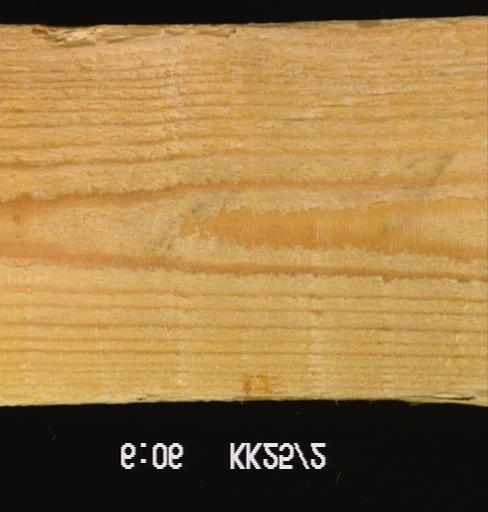wave: (24, 24, 244, 52), (400, 386, 487, 402)
